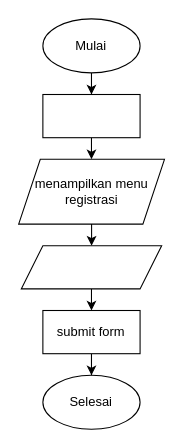
Some shapes in this 184 by 448 pixel diagram are drawn without their labels. The shapes that lost their labels are listed below. From the top down, each one's centre as x and y in pixels, then its label:
the point at 91,115: memilih menu registrasi
the point at 91,267: input form register
